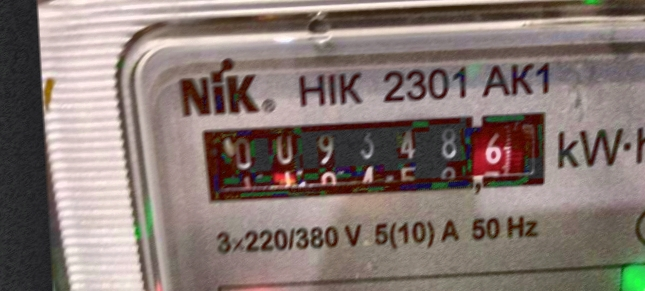0: (272, 131, 295, 168), (231, 135, 253, 171)
3: (354, 127, 377, 160)
4: (394, 125, 417, 163)
6: (481, 130, 505, 165)
8: (437, 124, 458, 159)
9: (315, 129, 335, 164)
screen: (178, 95, 568, 219)
